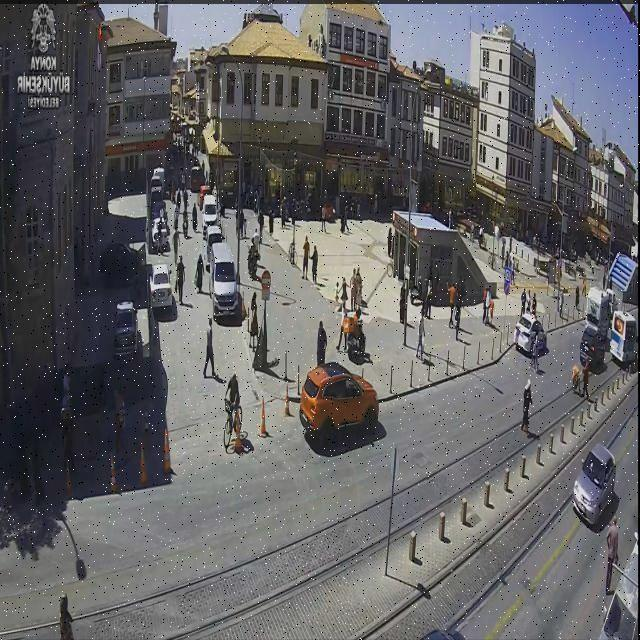Car: (300, 362, 380, 439), (572, 444, 617, 524), (208, 242, 238, 317), (512, 313, 546, 357), (114, 304, 139, 357), (580, 324, 608, 368), (148, 264, 173, 310), (204, 229, 226, 267), (201, 194, 219, 233), (150, 176, 163, 200)
Cycle: (223, 400, 246, 452)
Van: (606, 311, 640, 366), (584, 286, 610, 336)
